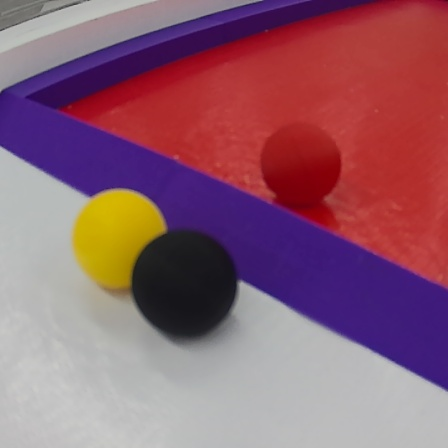black: (131, 229, 241, 341)
red: (257, 122, 346, 215)
red_aim: (3, 3, 448, 395)
yellow: (72, 186, 173, 296)
